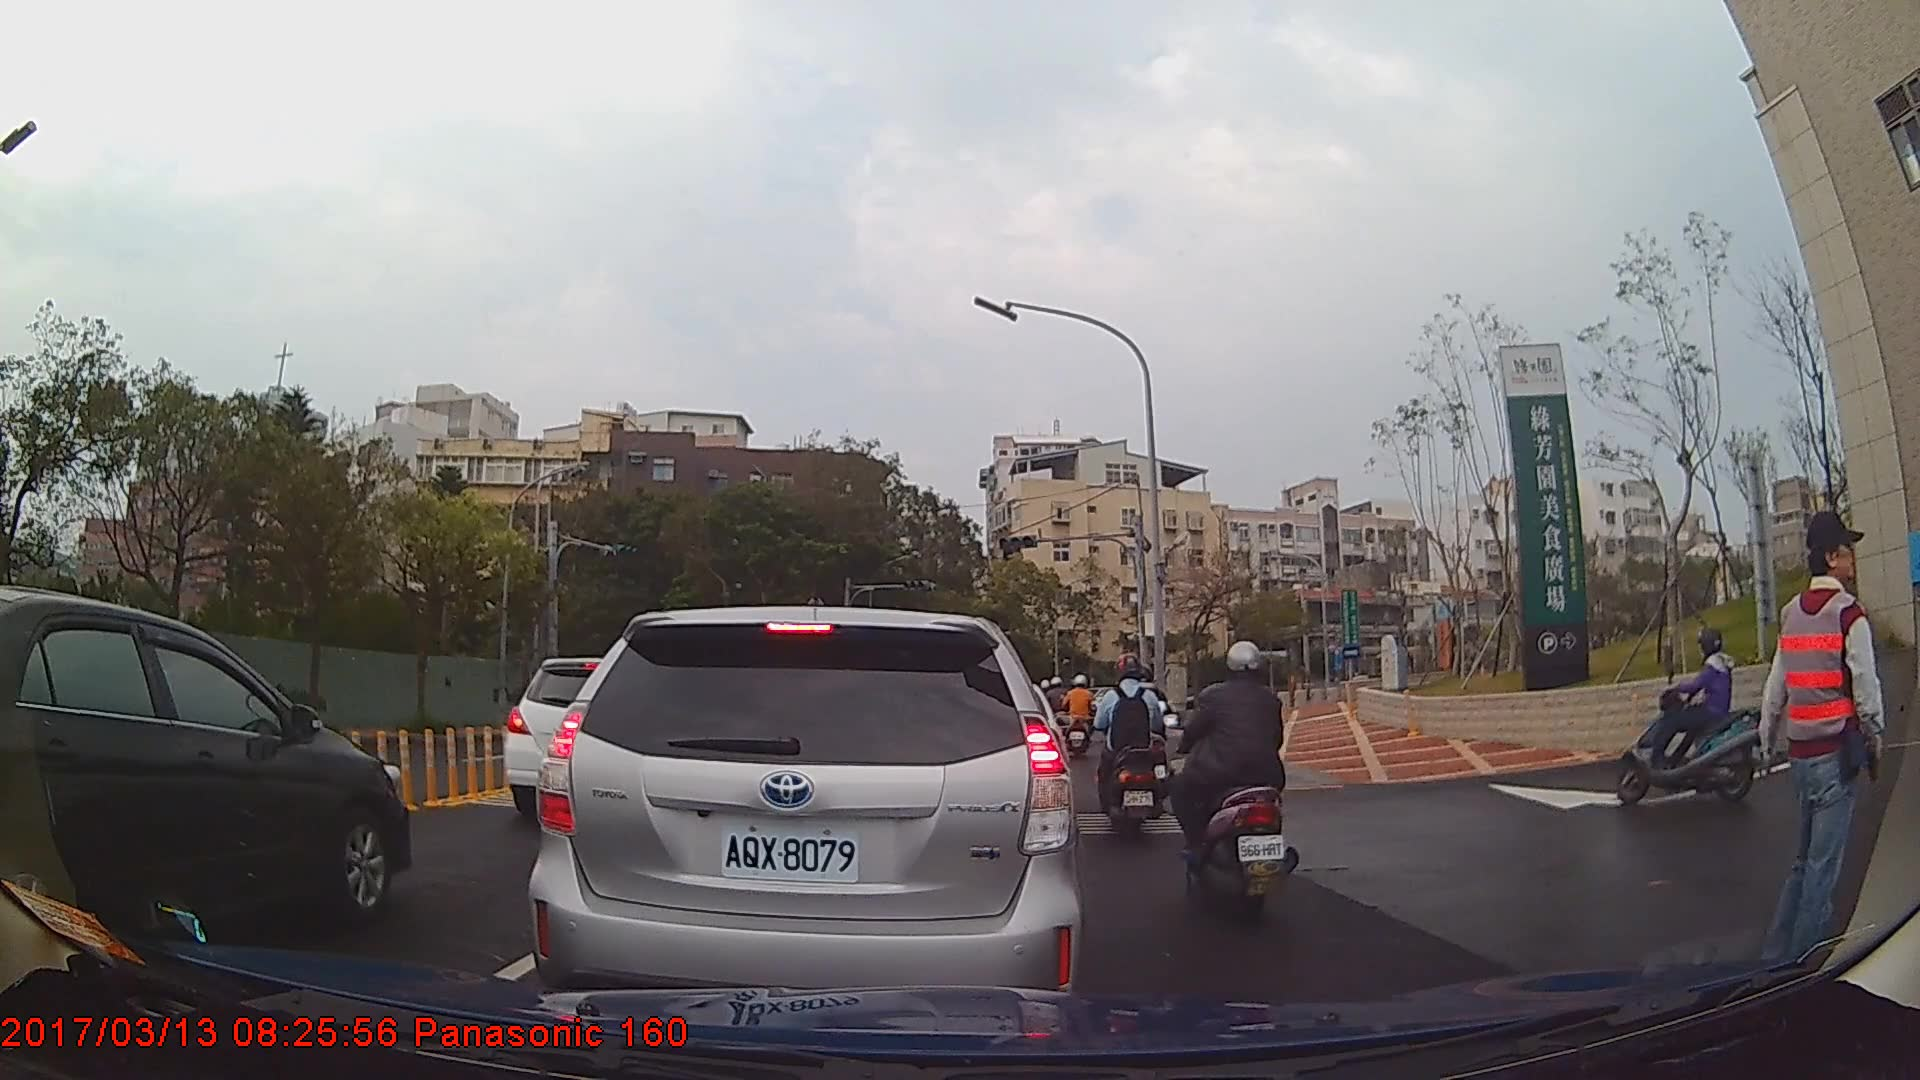pedestrian: (1762, 516, 1882, 985)
rider: (1170, 639, 1296, 921), (1612, 620, 1760, 805), (1098, 647, 1170, 840), (1063, 673, 1097, 755)
vehicle: (528, 601, 1081, 1041), (0, 582, 410, 945), (509, 659, 662, 817)
